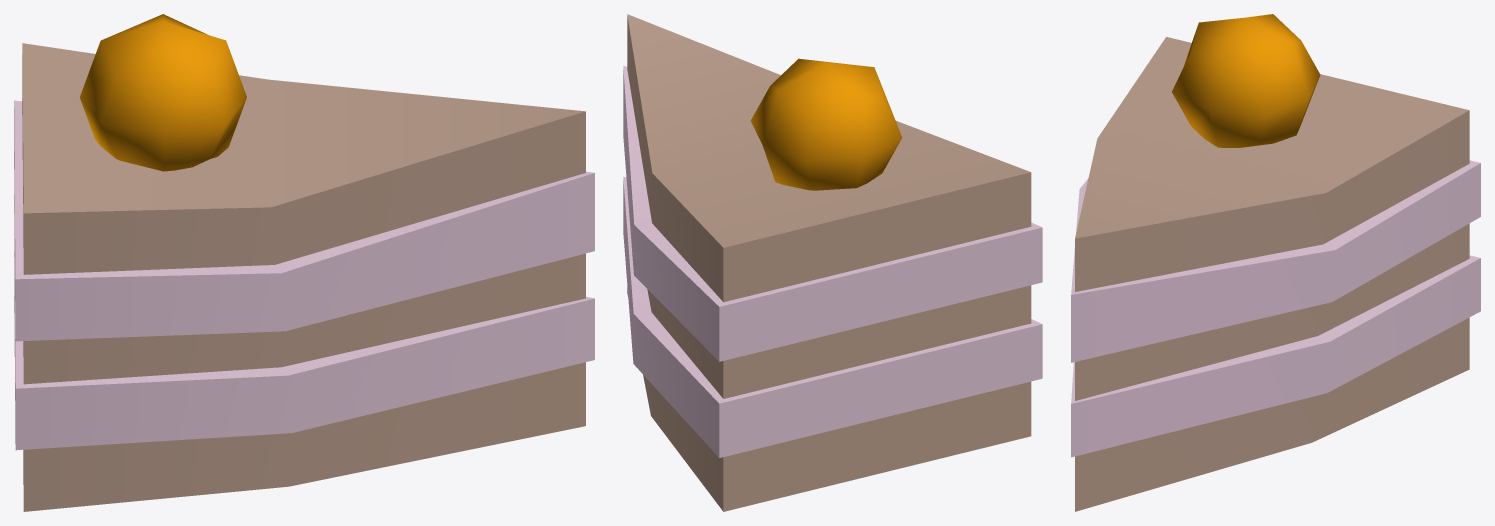
Rendered from cakePiece.fbx.
3 renders of one model, left to right at view 1: azimuth 30°, elevation 25°; view 2: azimuth 150°, elevation 25°; view 3: azimuth 270°, elevation 25°, orthographic. The views are drawn at different scales.
Parts seen in each view (by area): view 1: cakePiece; view 2: cakePiece; view 3: cakePiece.
Part boxes in pixels (x1=…): cakePiece: x1=14, y1=14, x2=594, y2=511; cakePiece: x1=623, y1=14, x2=1042, y2=511; cakePiece: x1=1071, y1=14, x2=1480, y2=511.
Size of the model in its own units: 52.11 by 38.88 by 40.42.
